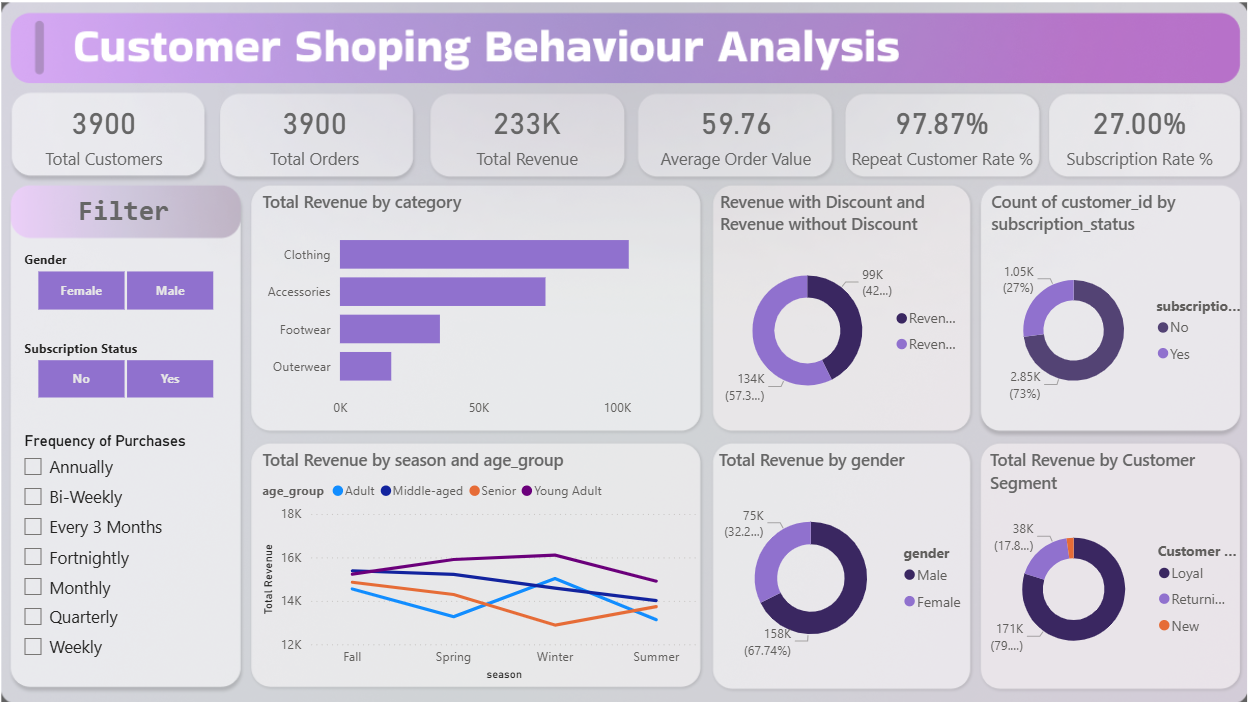

Layout of this report page (visuals, bound fields, positions):
{"tool":"powerbi","page":{"name":"Page 1","canvas":[1280,720],"ordinal":0},"visuals":[{"type":"lineChart","fields":{"Series":["customer_shopping_behavior.age_group"],"Y":["_measure.Total Revenue"],"Category":["customer_shopping_behavior.season"]},"box":[285.9,450,429.5,229.2],"z":0},{"type":"card","fields":{"Values":["_measure.Total Revenue"]},"box":[464.5,106.2,164.1,79.6],"z":1000},{"type":"card","fields":{"Values":["_measure.Subscription Rate %"]},"box":[1055.6,106.2,164.1,79.6],"z":2000},{"type":"card","fields":{"Values":["_measure.Repeat Customer Rate %"]},"box":[854.2,106.2,185.8,79.6],"z":3000},{"type":"card","fields":{"Values":["_measure.Average Order Value"]},"box":[666,106.2,164.1,79.6],"z":4000},{"type":"card","fields":{"Values":["_measure.Total Orders"]},"box":[259.4,106.2,164.1,79.6],"z":5000},{"type":"card","fields":{"Values":["_measure.Total Customers"]},"box":[56.7,106.2,162.9,79.6],"z":6000},{"type":"clusteredBarChart","fields":{"Category":["customer_shopping_behavior.category"],"Y":["_measure.Total Revenue"]},"box":[285.9,200.3,419.8,229.2],"z":7000},{"type":"donutChart","fields":{"Y":["_measure.Revenue with Discount","_measure.Revenue without Discount"]},"box":[727.5,200.3,252.1,229.2],"z":8000},{"type":"donutChart","fields":{"Y":["Count(customer_shopping_behavior.customer_id)"],"Category":["customer_shopping_behavior.subscription_status"]},"box":[989.3,200.3,254.6,229.2],"z":9000},{"type":"donutChart","fields":{"Category":["customer_shopping_behavior.Customer Segment"],"Y":["_measure.Total Revenue"]},"box":[988.1,450,257,229.2],"z":10000},{"type":"donutChart","fields":{"Y":["_measure.Total Revenue"],"Category":["customer_shopping_behavior.gender"]},"box":[726.3,450,253.4,229.2],"z":11000},{"type":"slicer","fields":{"Values":["customer_shopping_behavior.gender"]},"box":[48.3,254.6,219.6,68.8],"z":12000},{"type":"slicer","fields":{"Values":["customer_shopping_behavior.frequency_of_purchases"]},"box":[48.3,429.5,226.8,240.1],"z":13000},{"type":"slicer","fields":{"Values":["customer_shopping_behavior.subscription_status"]},"box":[48.3,340.2,219.6,67.6],"z":14000},{"type":"textbox","box":[70,200.3,173.7,44.6],"z":14001}]}

Visuals, with their boxes in screenshot pixels (x1, y1, x2, y2), scaled from the page's 1280x720 canvas onto the 1249x702 screenshot:
lineChart - customer_shopping_behavior.age_group x _measure.Total Revenue: 279:439:698:662
card - _measure.Total Revenue: 453:104:613:181
card - _measure.Subscription Rate %: 1030:104:1190:181
card - _measure.Repeat Customer Rate %: 834:104:1015:181
card - _measure.Average Order Value: 650:104:810:181
card - _measure.Total Orders: 253:104:413:181
card - _measure.Total Customers: 55:104:214:181
clusteredBarChart - customer_shopping_behavior.category x _measure.Total Revenue: 279:195:689:419
donutChart - _measure.Revenue with Discount x _measure.Revenue without Discount: 710:195:956:419
donutChart - Count(customer_shopping_behavior.customer_id) x customer_shopping_behavior.subscription_status: 965:195:1214:419
donutChart - customer_shopping_behavior.Customer Segment x _measure.Total Revenue: 964:439:1215:662
donutChart - _measure.Total Revenue x customer_shopping_behavior.gender: 709:439:956:662
slicer - customer_shopping_behavior.gender: 47:248:261:315
slicer - customer_shopping_behavior.frequency_of_purchases: 47:419:268:653
slicer - customer_shopping_behavior.subscription_status: 47:332:261:398
textbox: 68:195:238:239
